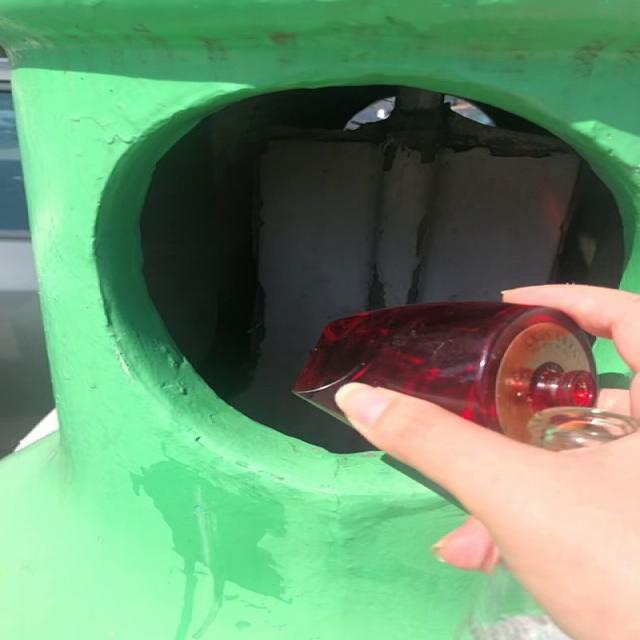Glass: (293, 302, 599, 442)
